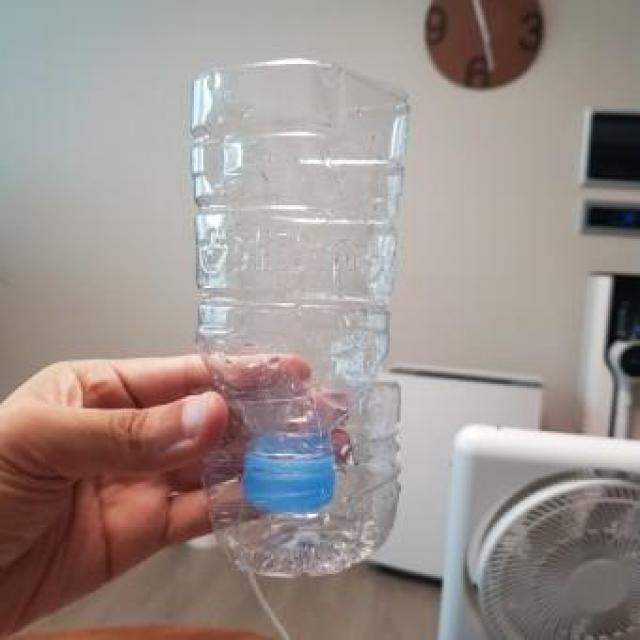bottle: (158, 36, 420, 586)
